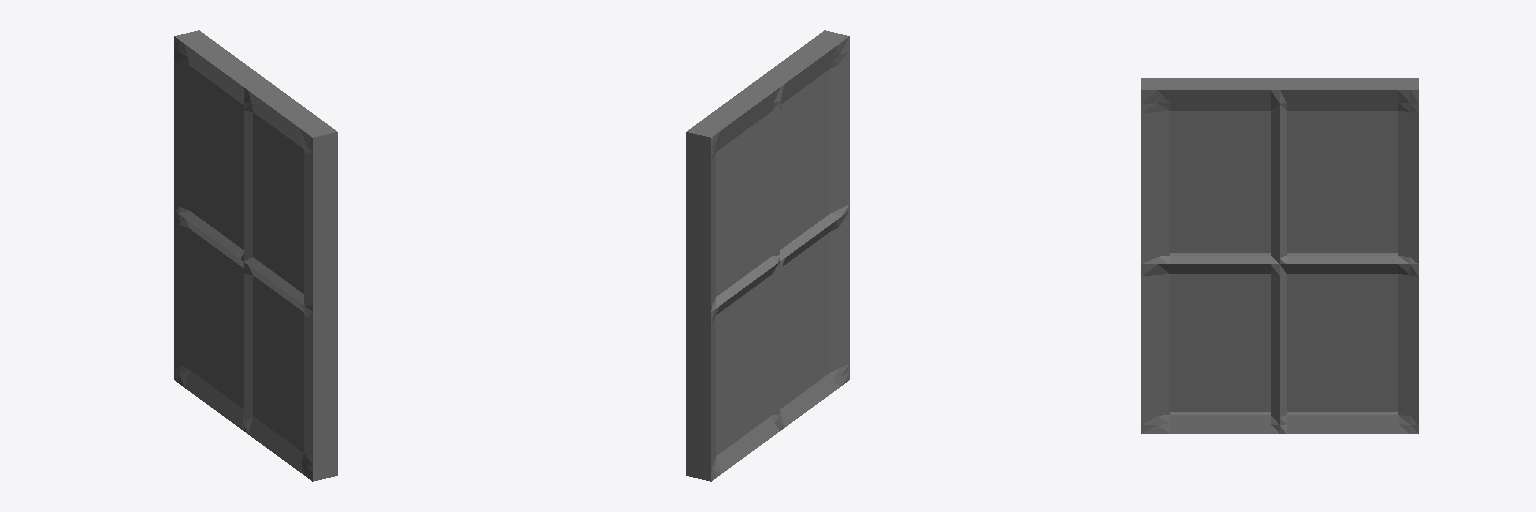
The model's file is window.obj.
3 views of the same model, side by side, from view 1: azimuth 30°, elevation 25°; view 2: azimuth 150°, elevation 25°; view 3: azimuth 270°, elevation 25° (orthographic).
Visible parts, largest first — view 1: window:pCube1; view 2: window:pCube1; view 3: window:pCube1.
Boxes of the visible parts, x1=… form: window:pCube1: x1=174, y1=30, x2=337, y2=481; window:pCube1: x1=686, y1=30, x2=849, y2=481; window:pCube1: x1=1141, y1=78, x2=1418, y2=433.
Bounding box in the file's own units: 0.2111 × 2.79 × 2.04.